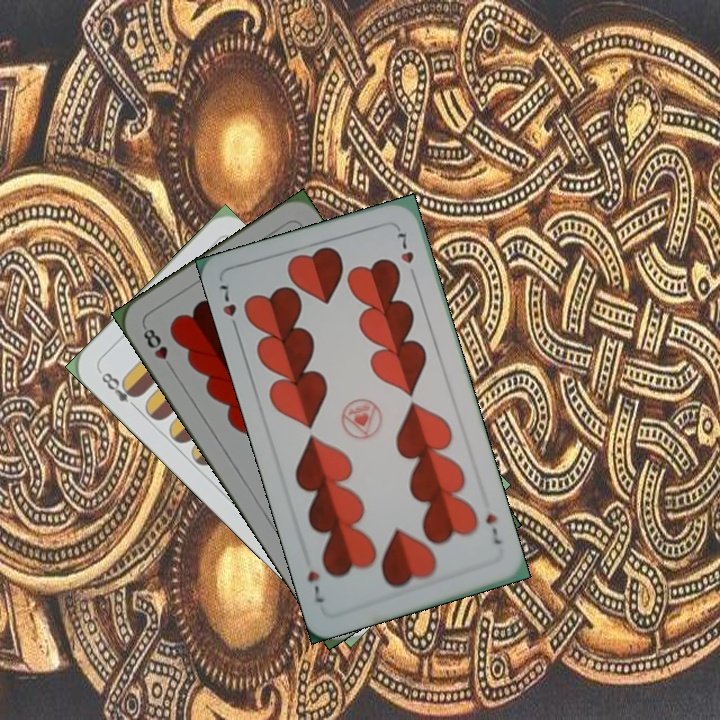E8: (97, 368, 143, 413)
H7: (215, 280, 242, 336), (481, 509, 504, 547)
H8: (139, 321, 177, 374)
